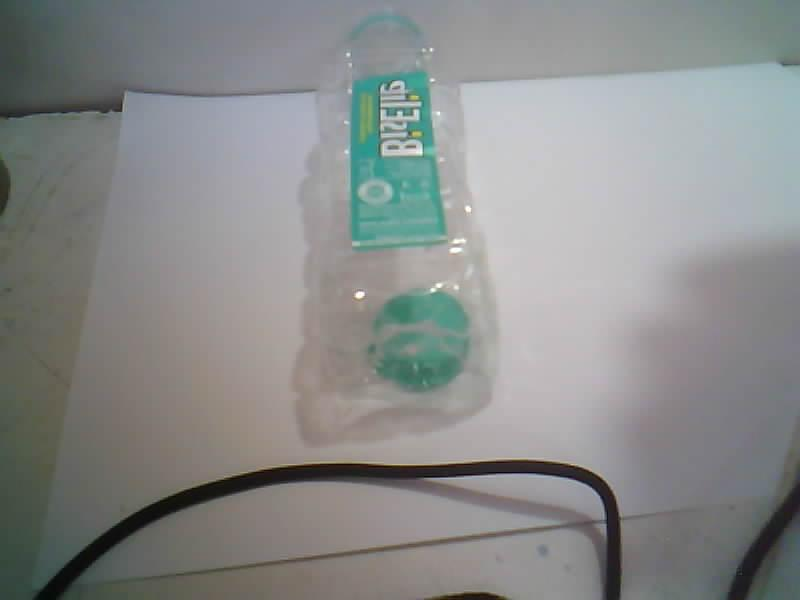non-biodegradable: (306, 16, 495, 412)
